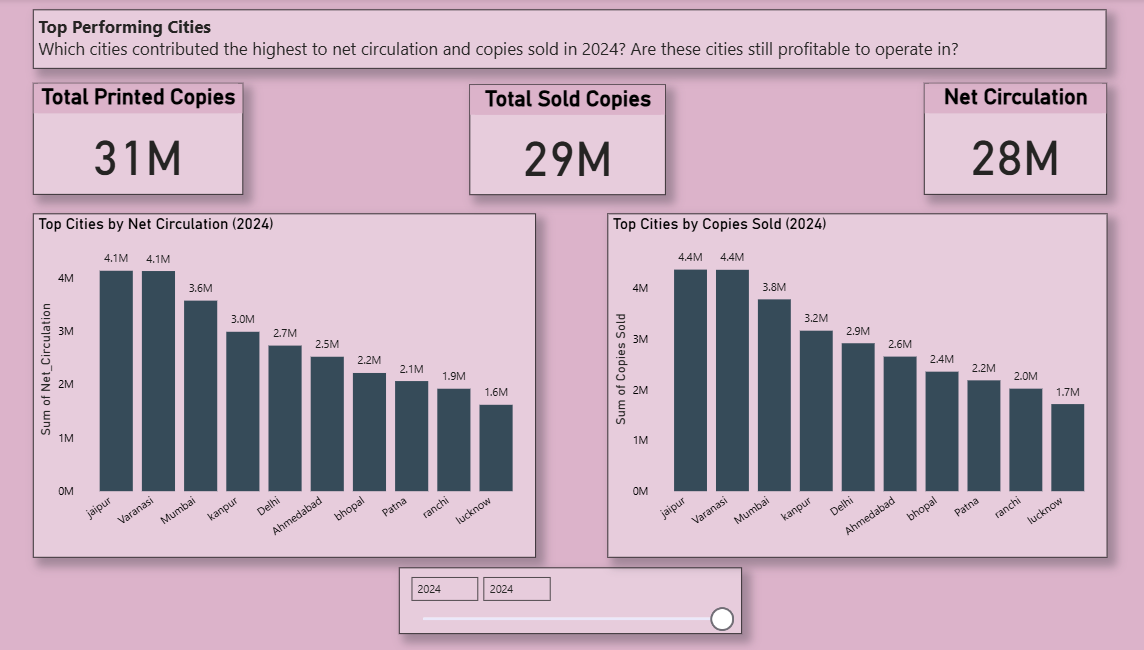

The dashboard page shown, as its layout file describes it:
{"tool":"powerbi","page":{"name":"Top Performing Cities","canvas":[1280,720],"ordinal":1},"visuals":[{"type":"columnChart","title":"Top Cities by Net Circulation (2024)","fields":{"Category":["dim_city.city"],"Y":["Sum(fact_print_sales.Net_Circulation)"]},"box":[50,236.7,555,380],"z":0},{"type":"card","title":"Total Copies Printed (2024) ","fields":{"Values":["fact_print_sales.Copies Printed"]},"box":[49.7,92.8,231.9,124.2],"z":1000},{"type":"card","title":"Total Copies Sold (2024)","fields":{"Values":["Sum(fact_print_sales.Copies Sold)"]},"box":[531.7,95,216.7,121.7],"z":2000},{"type":"card","title":"Net Circulation","fields":{"Values":["Sum(fact_print_sales.Net_Circulation)"]},"box":[1033.3,93.3,201.7,123.3],"z":3000},{"type":"slicer","fields":{"Values":["dim_date.Year"]},"box":[453.3,628.3,378.3,73.3],"z":4000},{"type":"textbox","box":[50,11.7,1185,65],"z":5000},{"type":"columnChart","title":"Top Cities by Copies Sold (2024)","fields":{"Category":["dim_city.city"],"Y":["Sum(fact_print_sales.Copies Sold)"]},"box":[683.3,236.7,551.7,380],"z":6000}]}

Visuals, with their boxes in screenshot pixels (x1, y1, x2, y2), scaled from the page's 1280x720 canvas onto the 1144x650 screenshot:
"Top Cities by Net Circulation (2024)" columnChart: 45:214:541:557
"Total Copies Printed (2024) " card: 44:84:252:196
"Total Copies Sold (2024)" card: 475:86:669:196
"Net Circulation" card: 924:84:1104:196
slicer - dim_date.Year: 405:567:743:633
textbox: 45:11:1104:69
"Top Cities by Copies Sold (2024)" columnChart: 611:214:1104:557
